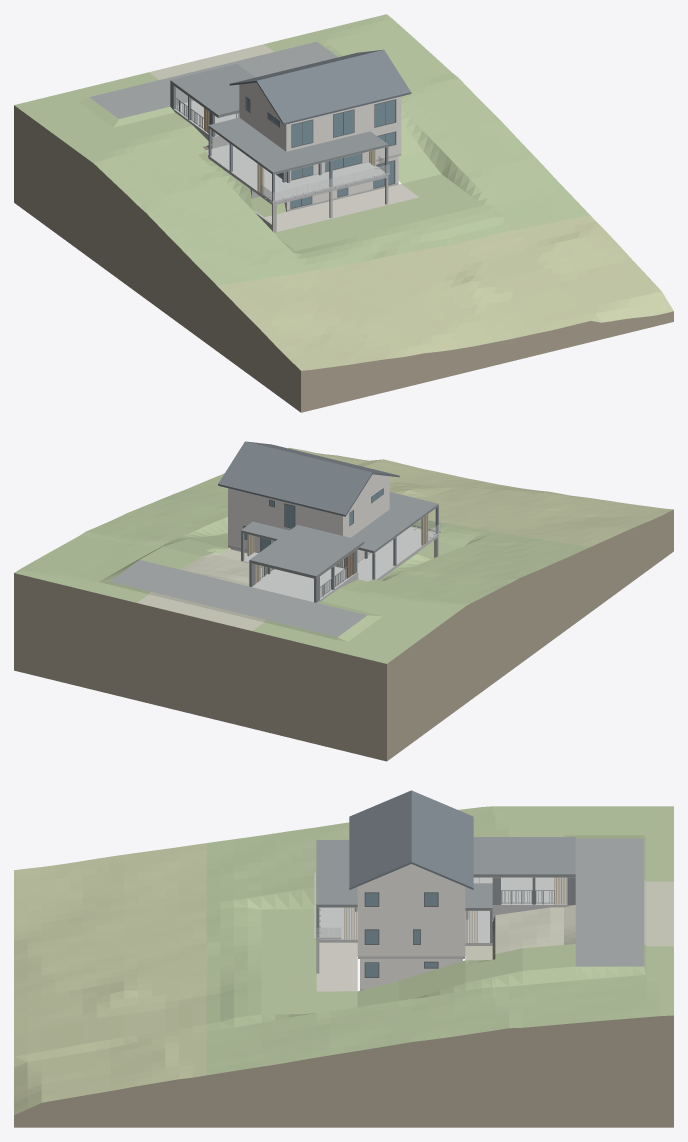
The model's file is Schaffernak_Haus_A.glb.
The picture shows the model from 3 angles, top to bottom: view 1: azimuth 30°, elevation 25°; view 2: azimuth 150°, elevation 25°; view 3: azimuth 270°, elevation 25°; orthographic projection. The views are drawn at different scales.
Parts seen in each view (by area): view 1: Foto_Gelaende_Rasen_Boeschung, Foto_Gelaende_Hang_unten, Foto_Gelaende_Modellrand, Satteldach_0, Strasse_parallel_zum_Haus_schematisch, Foto_Gelaende_Kies_Kellerbereich, Entwurf_Dach_vorne, Carport_Dach, Balkon_vorne, Foto_Gelaende_Seitliche_Gruenflaeche, Entwurf_Dach_links, Foto_Gelaende_Rueckseite (+3 smaller); view 2: Foto_Gelaende_Modellrand, Foto_Gelaende_Rasen_Boeschung, Foto_Gelaende_Hang_unten, Strasse_parallel_zum_Haus_schematisch, Satteldach_1, Foto_Gelaende_Rueckseite, Carport_Dach, Foto_Gelaende_Seitliche_Gruenflaeche, Carport_Boden, Entwurf_Dach_links, Balkon_links, OG_back_Wand4 (+5 smaller); view 3: Foto_Gelaende_Rasen_Boeschung, Foto_Gelaende_Modellrand, Foto_Gelaende_Hang_unten, Strasse_parallel_zum_Haus_schematisch, Foto_Gelaende_Rueckseite, Foto_Gelaende_Seitliche_Gruenflaeche, Satteldach_0, Satteldach_1, Carport_Dach, Entwurf_Dach_vorne, Foto_Gelaende_Kies_Kellerbereich, Carport_Boden (+9 smaller).
Part boxes in pixels (box(x1,y1,x2,y2)): Foto_Gelaende_Rasen_Boeschung: box(14, 14, 589, 285); Foto_Gelaende_Hang_unten: box(217, 215, 673, 370); Foto_Gelaende_Modellrand: box(14, 105, 673, 412); Satteldach_0: box(256, 50, 411, 124); Strasse_parallel_zum_Haus_schematisch: box(89, 41, 337, 118); Foto_Gelaende_Kies_Kellerbereich: box(265, 184, 418, 231); Entwurf_Dach_vorne: box(255, 131, 388, 174); Carport_Dach: box(171, 64, 254, 114); Balkon_vorne: box(255, 162, 388, 205); Foto_Gelaende_Seitliche_Gruenflaeche: box(264, 34, 440, 183); Entwurf_Dach_links: box(208, 117, 285, 160); Foto_Gelaende_Rueckseite: box(149, 44, 273, 79); Foto_Gelaende_Modellrand: box(14, 509, 673, 761); Foto_Gelaende_Rasen_Boeschung: box(14, 476, 589, 663); Foto_Gelaende_Hang_unten: box(218, 447, 673, 546); Strasse_parallel_zum_Haus_schematisch: box(110, 560, 366, 636); Satteldach_1: box(218, 441, 372, 516); Foto_Gelaende_Rueckseite: box(137, 549, 272, 630); Carport_Dach: box(250, 525, 363, 575); Foto_Gelaende_Seitliche_Gruenflaeche: box(97, 533, 229, 602); Carport_Boden: box(252, 569, 352, 602); Entwurf_Dach_links: box(351, 509, 420, 552); Balkon_links: box(357, 540, 420, 580); OG_back_Wand4: box(228, 488, 268, 522); Foto_Gelaende_Rasen_Boeschung: box(206, 806, 673, 1075); Foto_Gelaende_Modellrand: box(14, 1015, 673, 1127); Foto_Gelaende_Hang_unten: box(14, 843, 206, 1115); Strasse_parallel_zum_Haus_schematisch: box(575, 838, 644, 966); Foto_Gelaende_Rueckseite: box(465, 879, 673, 960); Foto_Gelaende_Seitliche_Gruenflaeche: box(357, 944, 673, 1007); Satteldach_0: box(349, 790, 411, 889); Satteldach_1: box(411, 790, 473, 889); Carport_Dach: box(473, 837, 575, 874); Entwurf_Dach_vorne: box(316, 840, 357, 907); Foto_Gelaende_Kies_Kellerbereich: box(316, 942, 357, 991); Carport_Boden: box(492, 877, 573, 906).
Bounding box in the file's own units: 36 × 16.06 × 48.
